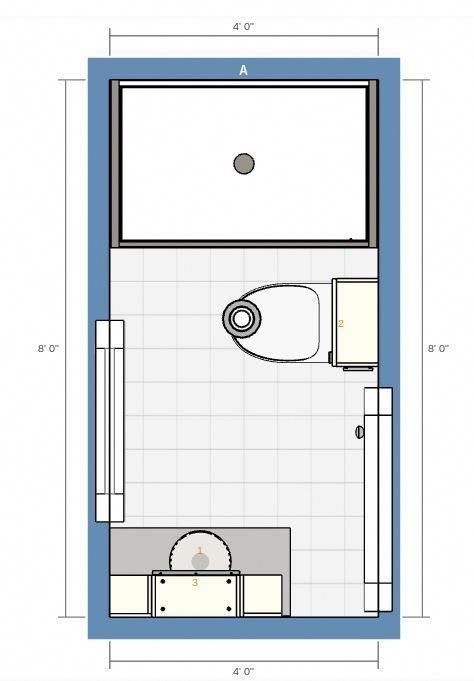room: (90, 59, 395, 640)
wall: (82, 607, 415, 646), (79, 49, 409, 88), (375, 55, 408, 390), (83, 50, 117, 322), (85, 522, 119, 652)
window: (91, 313, 144, 523), (364, 388, 401, 618)
